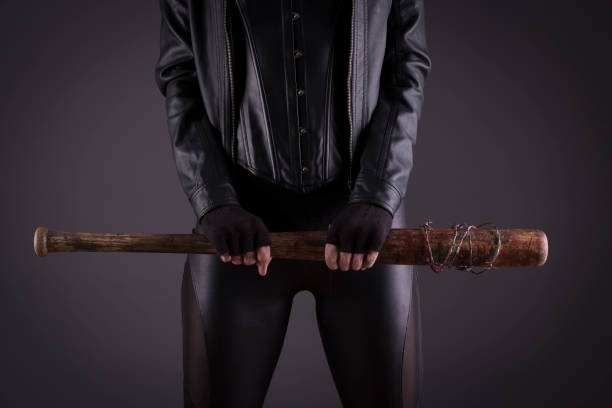bita: (31, 224, 550, 263)
